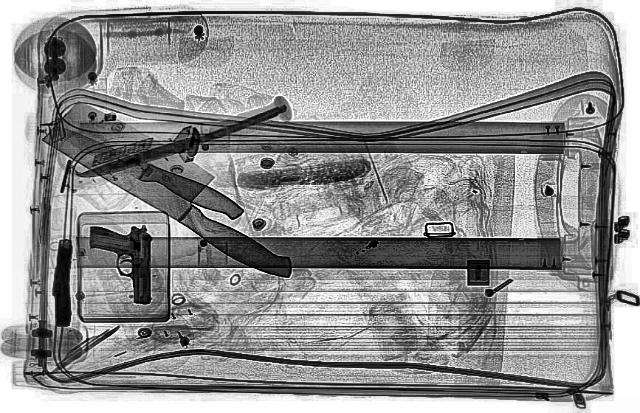Gun: (89, 224, 153, 304), (52, 239, 74, 325)
Knife: (21, 97, 339, 284), (30, 114, 252, 222), (74, 104, 292, 182)
